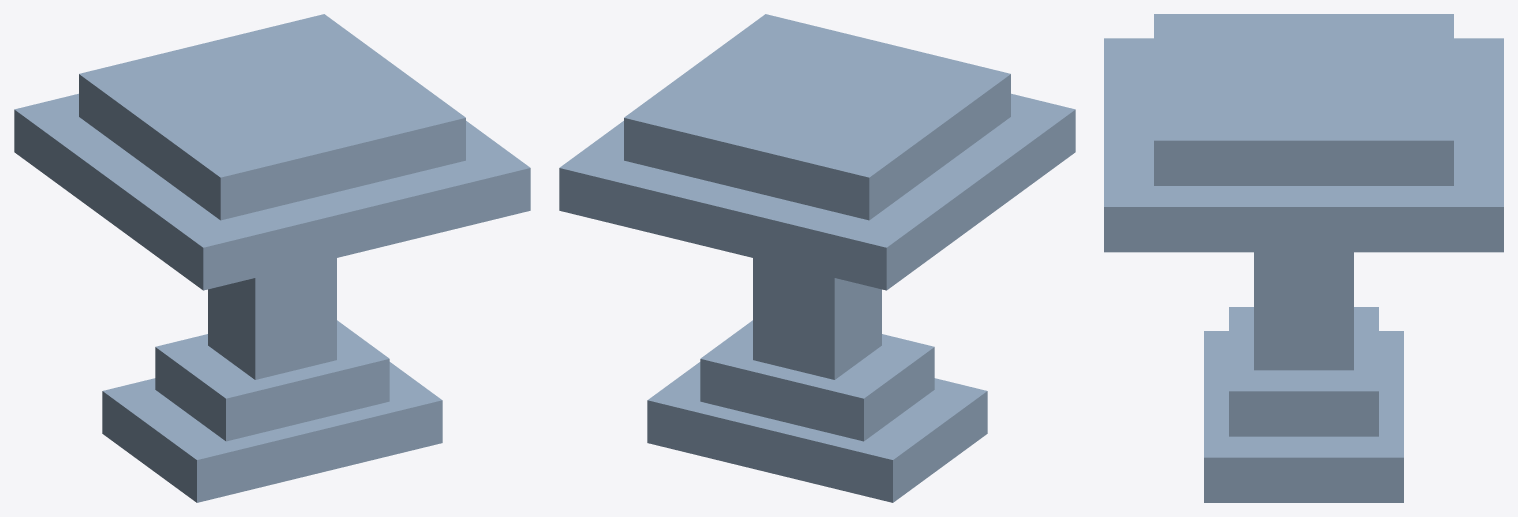
The model's file is stone-table.glb.
3 views of the same model, side by side, from view 1: azimuth 30°, elevation 25°; view 2: azimuth 150°, elevation 25°; view 3: azimuth 270°, elevation 25° (orthographic). The views are drawn at different scales.
Visible parts, largest first — view 1: generated(Clone); view 2: generated(Clone); view 3: generated(Clone).
Boxes of the visible parts, x1,y1,x2,y2 form: generated(Clone): (14,14,530,502); generated(Clone): (559,14,1075,502); generated(Clone): (1104,14,1503,502).
Bounding box in the file's own units: 8 × 8 × 8.
1 material, 1 textured.
